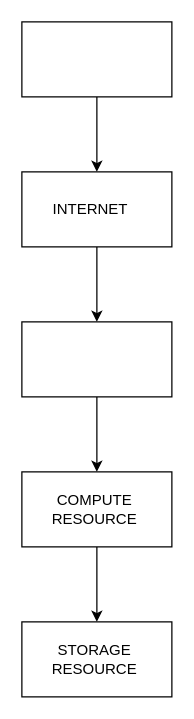
This 194x719 diagram has some shape labels left out. Each missing label, with the centre of its shape:
"NETWORK" goes at (x=96, y=359).
"USER" goes at (x=96, y=59).
